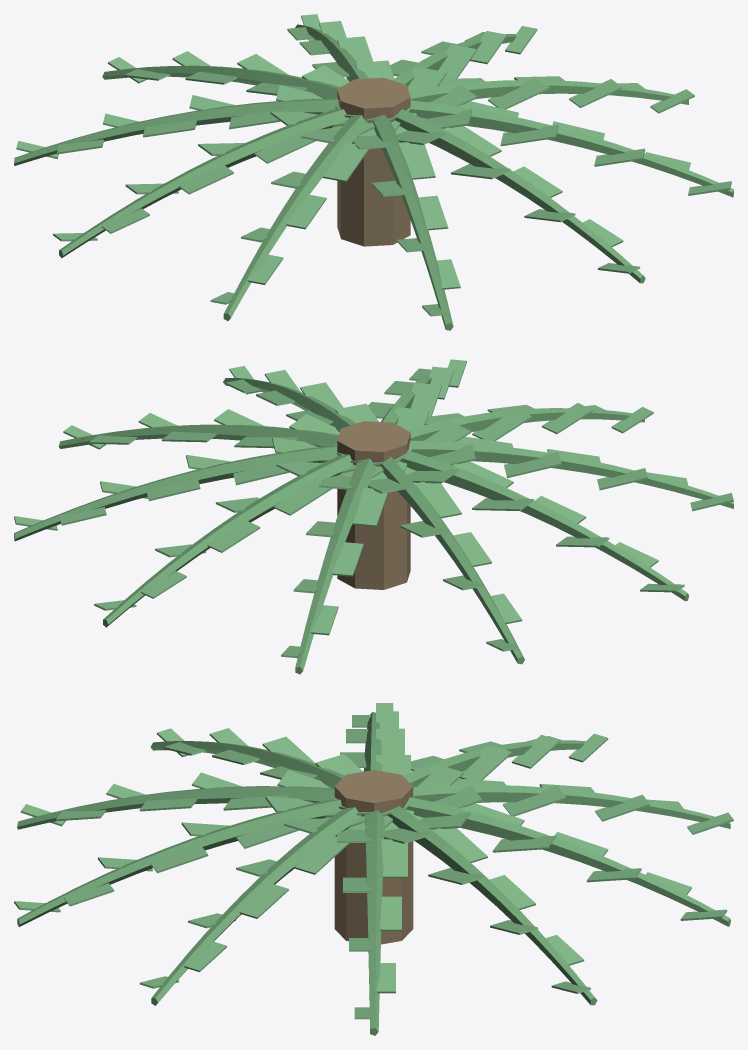
File: 50-Vegetacion_helecho_gigante.glb
3 views of the same model, one above another, from view 1: azimuth 30°, elevation 25°; view 2: azimuth 150°, elevation 25°; view 3: azimuth 270°, elevation 25° (orthographic). The views are drawn at different scales.
Parts seen in each view (by area): view 1: SM_Helecho_Tronco, SM_Helecho_FrondaTallo_6, SM_Helecho_FrondaTallo_10, SM_Helecho_FrondaTallo_9, SM_Helecho_FrondaTallo_5, SM_Helecho_FrondaTallo_7, SM_Helecho_FrondaTallo_8, SM_Helecho_FrondaTallo_1, SM_Helecho_FrondaTallo_4, SM_Helecho_FrondaTallo_3, SM_Helecho_Hojuela_7_2, SM_Helecho_FrondaTallo_2 (+24 smaller); view 2: SM_Helecho_Tronco, SM_Helecho_FrondaTallo_6, SM_Helecho_FrondaTallo_2, SM_Helecho_FrondaTallo_3, SM_Helecho_FrondaTallo_7, SM_Helecho_FrondaTallo_5, SM_Helecho_FrondaTallo_4, SM_Helecho_FrondaTallo_1, SM_Helecho_FrondaTallo_8, SM_Helecho_FrondaTallo_10, SM_Helecho_Hojuela_4_2, SM_Helecho_Hojuela_8_3 (+23 smaller); view 3: SM_Helecho_Tronco, SM_Helecho_FrondaTallo_3, SM_Helecho_FrondaTallo_9, SM_Helecho_FrondaTallo_10, SM_Helecho_FrondaTallo_2, SM_Helecho_FrondaTallo_8, SM_Helecho_FrondaTallo_4, SM_Helecho_FrondaTallo_1, SM_Helecho_FrondaTallo_7, SM_Helecho_FrondaTallo_5, SM_Helecho_Hojuela_10_2, SM_Helecho_Hojuela_1_2 (+24 smaller).
Part boxes in pixels (left/top/right/bottom): SM_Helecho_Tronco: left=337, top=77, right=410, bottom=246; SM_Helecho_FrondaTallo_6: left=59, top=108, right=348, bottom=258; SM_Helecho_FrondaTallo_10: left=409, top=100, right=733, bottom=197; SM_Helecho_FrondaTallo_9: left=395, top=109, right=645, bottom=283; SM_Helecho_FrondaTallo_5: left=14, top=98, right=338, bottom=165; SM_Helecho_FrondaTallo_7: left=223, top=115, right=368, bottom=320; SM_Helecho_FrondaTallo_8: left=372, top=114, right=453, bottom=330; SM_Helecho_FrondaTallo_1: left=408, top=80, right=688, bottom=104; SM_Helecho_FrondaTallo_4: left=102, top=65, right=340, bottom=98; SM_Helecho_FrondaTallo_3: left=295, top=24, right=368, bottom=81; SM_Helecho_Hojuela_7_2: left=322, top=142, right=369, bottom=182; SM_Helecho_FrondaTallo_2: left=392, top=34, right=516, bottom=86; SM_Helecho_Tronco: left=337, top=421, right=410, bottom=589; SM_Helecho_FrondaTallo_6: left=400, top=450, right=688, bottom=601; SM_Helecho_FrondaTallo_2: left=14, top=445, right=338, bottom=541; SM_Helecho_FrondaTallo_3: left=103, top=454, right=353, bottom=627; SM_Helecho_FrondaTallo_7: left=409, top=440, right=733, bottom=508; SM_Helecho_FrondaTallo_5: left=380, top=457, right=524, bottom=664; SM_Helecho_FrondaTallo_4: left=295, top=458, right=376, bottom=674; SM_Helecho_FrondaTallo_1: left=58, top=424, right=338, bottom=448; SM_Helecho_FrondaTallo_8: left=407, top=408, right=644, bottom=440; SM_Helecho_FrondaTallo_10: left=223, top=378, right=356, bottom=432; SM_Helecho_Hojuela_4_2: left=352, top=487, right=387, bottom=526; SM_Helecho_Hojuela_8_3: left=472, top=407, right=532, bottom=440; SM_Helecho_Tronco: left=334, top=770, right=413, bottom=944; SM_Helecho_FrondaTallo_3: left=406, top=797, right=730, bottom=926; SM_Helecho_FrondaTallo_9: left=17, top=799, right=342, bottom=926; SM_Helecho_FrondaTallo_10: left=151, top=807, right=361, bottom=1005; SM_Helecho_FrondaTallo_2: left=387, top=806, right=597, bottom=1005; SM_Helecho_FrondaTallo_8: left=17, top=786, right=334, bottom=829; SM_Helecho_FrondaTallo_4: left=413, top=785, right=730, bottom=828; SM_Helecho_FrondaTallo_1: left=365, top=810, right=384, bottom=1035; SM_Helecho_FrondaTallo_7: left=150, top=741, right=344, bottom=788; SM_Helecho_FrondaTallo_5: left=403, top=740, right=585, bottom=787; SM_Helecho_Hojuela_10_2: left=293, top=834, right=349, bottom=874; SM_Helecho_Hojuela_1_2: left=381, top=839, right=407, bottom=878.
Size of the model in its own units: 1.9 by 0.4 by 1.83.
